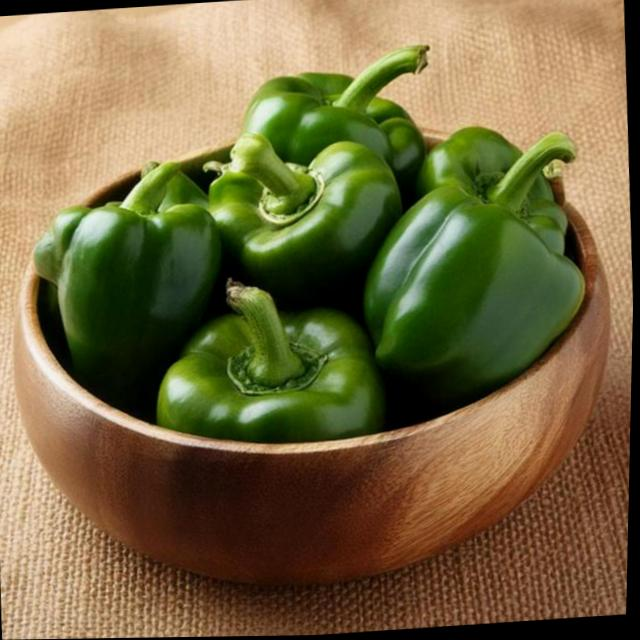Capsicum: (357, 180, 603, 395), (154, 275, 390, 451), (203, 124, 407, 317), (52, 190, 226, 409), (237, 46, 436, 202), (416, 117, 587, 263), (32, 201, 97, 285), (38, 275, 66, 340)
